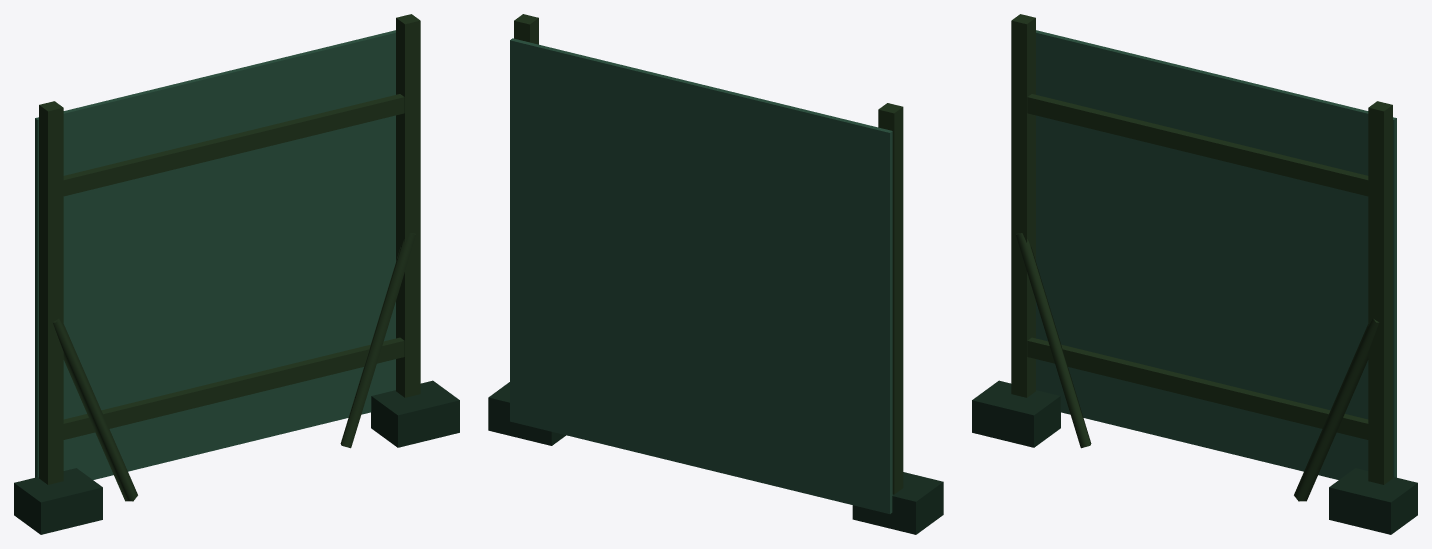
Rendered from HOARDING.glb.
The picture shows the model from 3 angles, left to right: view 1: azimuth 30°, elevation 25°; view 2: azimuth 150°, elevation 25°; view 3: azimuth 330°, elevation 25°; orthographic projection. The views are drawn at different scales.
Parts seen in each view (by area): view 1: paint_0, timber_1, concreteProp_2; view 2: paint_0, timber_1, concreteProp_2; view 3: paint_0, timber_1, concreteProp_2.
Part boxes in pixels (left/top/right/bottom): paint_0: left=35, top=30, right=395, bottom=479; timber_1: left=39, top=14, right=420, bottom=501; concreteProp_2: left=14, top=380, right=459, bottom=534; paint_0: left=510, top=38, right=892, bottom=513; timber_1: left=514, top=14, right=903, bottom=494; concreteProp_2: left=488, top=382, right=943, bottom=534; paint_0: left=1036, top=30, right=1396, bottom=479; timber_1: left=1011, top=14, right=1392, bottom=501; concreteProp_2: left=972, top=380, right=1417, bottom=534.
Bounding box in the file's own units: 2.7 × 2.5 × 0.325.
